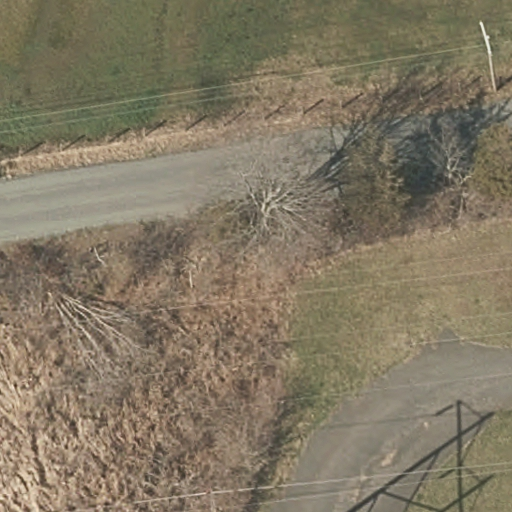DT: (477, 18, 495, 55)
